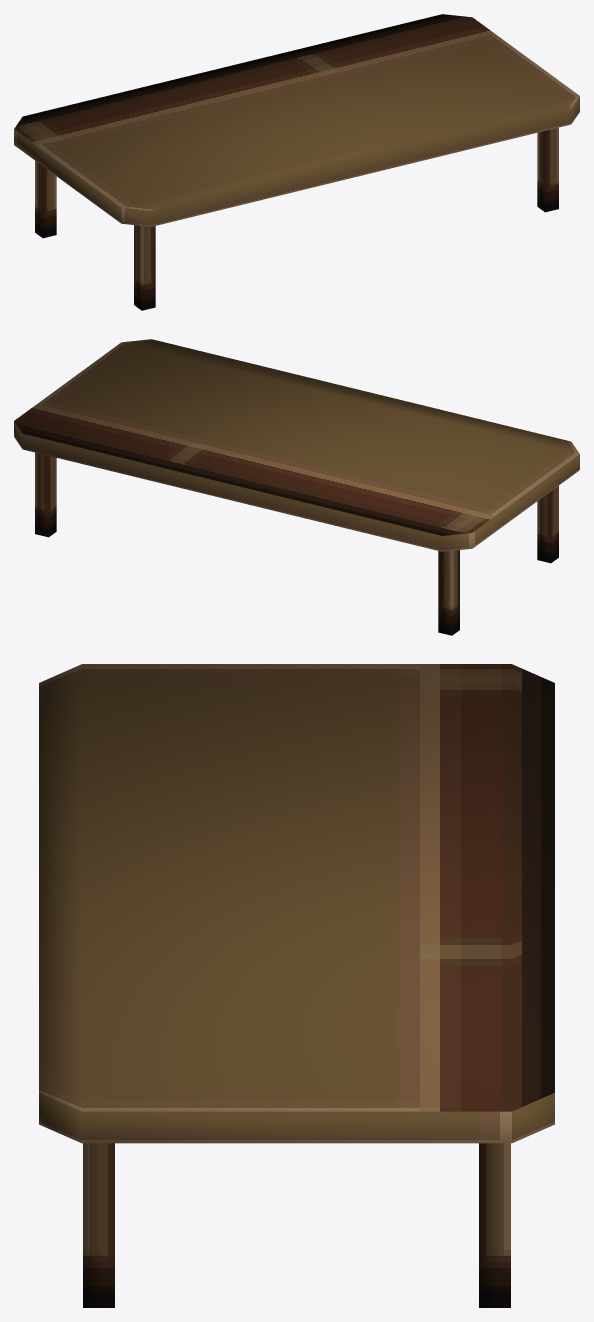
3 renders of one model, top to bottom at view 1: azimuth 30°, elevation 25°; view 2: azimuth 150°, elevation 25°; view 3: azimuth 270°, elevation 25°, orthographic. The views are drawn at different scales.
Parts seen in each view (by area): view 1: 3218IMSD01_04; view 2: 3218IMSD01_04; view 3: 3218IMSD01_04.
Boxes of the visible parts, box(x1,y1,x2,y2) form: 3218IMSD01_04: box(14, 14, 579, 310); 3218IMSD01_04: box(14, 339, 579, 635); 3218IMSD01_04: box(39, 664, 554, 1307).
Bounding box in the file's own units: 1.95 × 0.4399 × 0.9502.
Materials: 2 (2 with a texture image).
